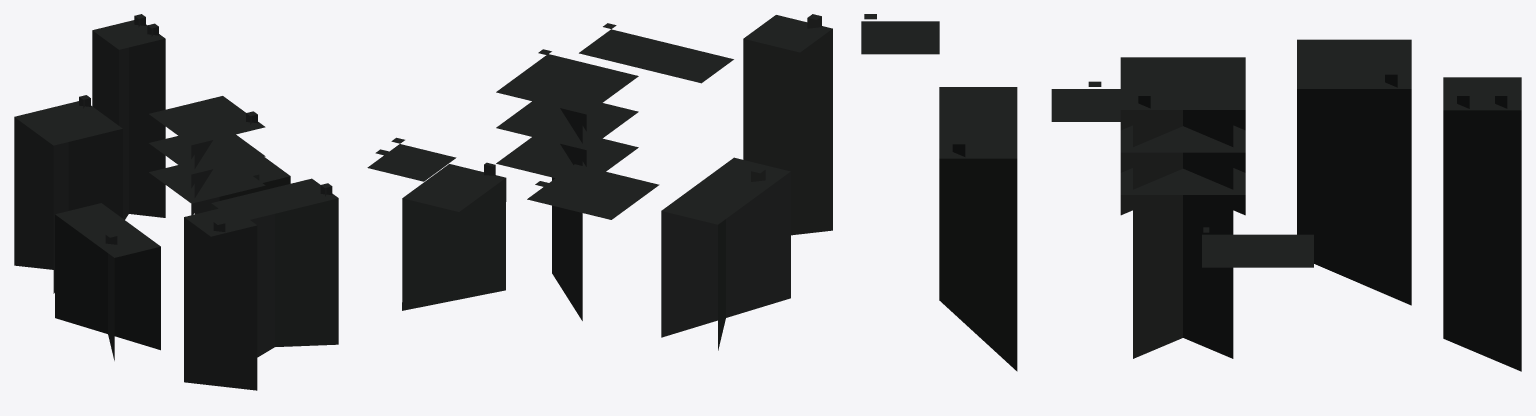
File: AMB_BILLS00.glb
The picture shows the model from 3 angles, left to right: view 1: azimuth 30°, elevation 25°; view 2: azimuth 150°, elevation 25°; view 3: azimuth 270°, elevation 25°; orthographic projection. The views are drawn at different scales.
Visible parts, largest first — view 1: obj21, obj19, bill8, bill5, bill, obj20, bill3; view 2: bill5, bill8, obj20, bill3, obj19, obj21, bill; view 3: obj20, obj19, bill, obj21, bill3, bill8, bill5.
Part boxes in pixels (x1,y1,x2,y2): obj21: (211, 178, 338, 357); obj19: (14, 95, 122, 293); bill8: (184, 206, 257, 390); bill5: (55, 203, 160, 360); bill: (92, 14, 165, 219); obj20: (149, 96, 265, 215); bill3: (219, 157, 290, 200); bill5: (661, 157, 790, 350); bill8: (743, 14, 832, 235); obj20: (496, 49, 638, 320); bill3: (402, 162, 506, 310); obj19: (527, 164, 659, 219); obj21: (579, 23, 733, 83); bill: (367, 137, 456, 181); obj20: (1120, 57, 1245, 358); obj19: (1297, 39, 1411, 305); bill: (1443, 77, 1521, 371); obj21: (939, 87, 1017, 371); bill3: (1202, 227, 1313, 267); bill8: (861, 14, 939, 54); bill5: (1051, 81, 1120, 121).
Size of the model in its own units: 245 by 194 by 422.
7 materials, 7 textured.
